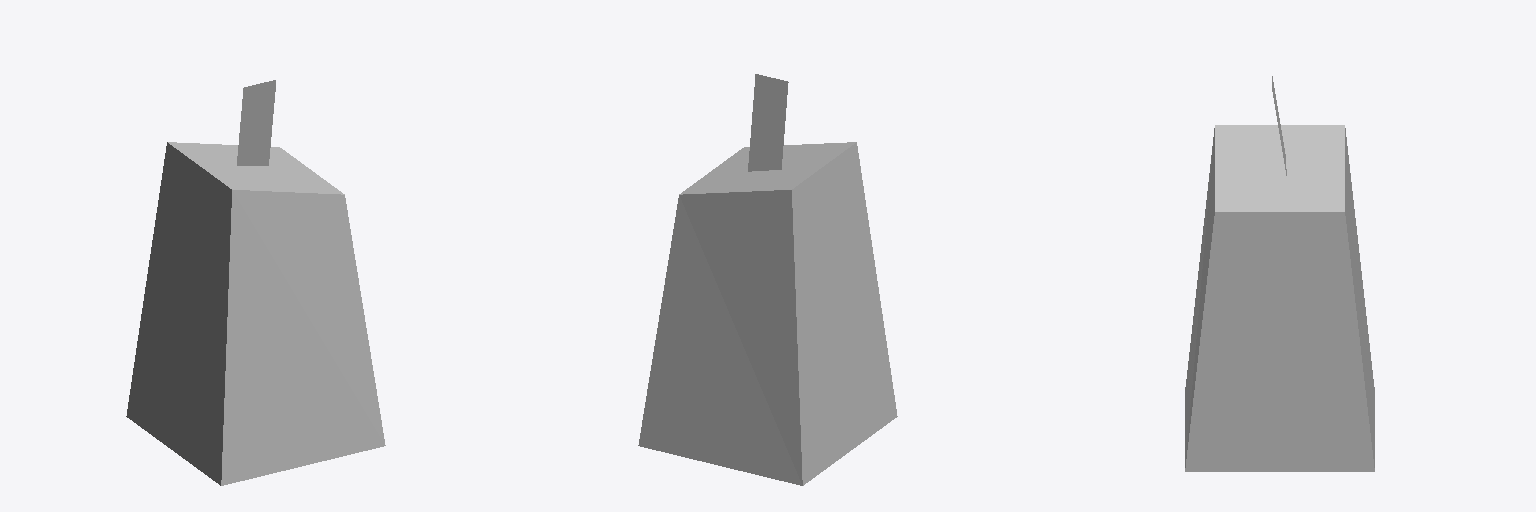
The model's file is svecha_2.obj.
3 views of the same model, side by side, from view 1: azimuth 30°, elevation 25°; view 2: azimuth 150°, elevation 25°; view 3: azimuth 270°, elevation 25° (orthographic).
Visible parts, largest first — view 1: Свеча_2; view 2: Свеча_2; view 3: Свеча_2.
Part boxes in pixels (left/top/right/bottom): Свеча_2: left=126, top=80, right=385, bottom=485; Свеча_2: left=638, top=74, right=897, bottom=485; Свеча_2: left=1185, top=76, right=1374, bottom=471.
Bounding box in the file's own units: 0.0994 × 0.2027 × 0.0994.